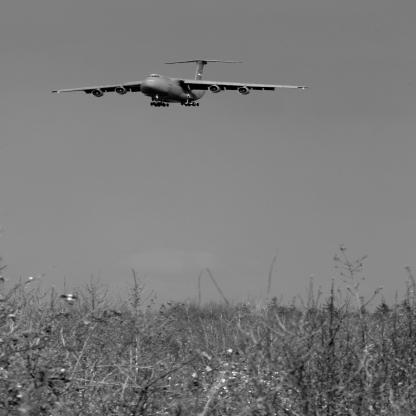C5: (52, 60, 313, 108)
